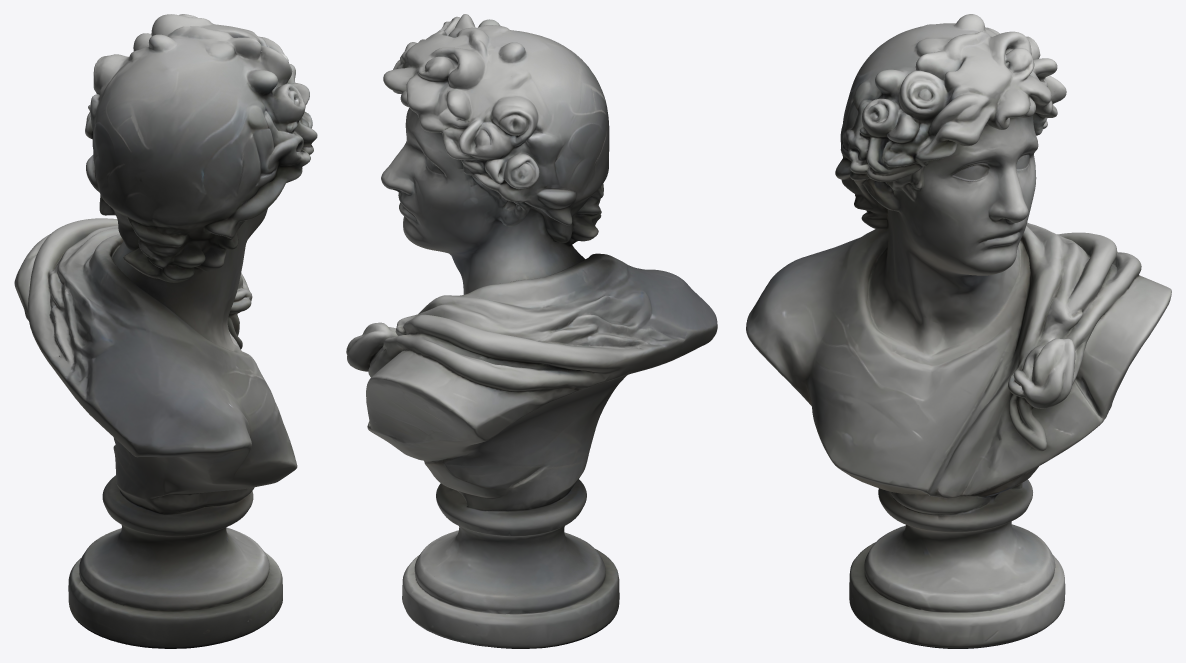
The model's file is prop-statue-bust.glb.
3 views of the same model, side by side, from view 1: azimuth 30°, elevation 25°; view 2: azimuth 150°, elevation 25°; view 3: azimuth 270°, elevation 25° (orthographic). The views are drawn at different scales.
Visible parts, largest first — view 1: tripo_node_2c90fab5-9128-40f5-b555-52f9227db2b2; view 2: tripo_node_2c90fab5-9128-40f5-b555-52f9227db2b2; view 3: tripo_node_2c90fab5-9128-40f5-b555-52f9227db2b2.
Boxes of the visible parts, left/top/right/bottom form: tripo_node_2c90fab5-9128-40f5-b555-52f9227db2b2: left=14, top=14, right=317, bottom=648; tripo_node_2c90fab5-9128-40f5-b555-52f9227db2b2: left=346, top=14, right=717, bottom=648; tripo_node_2c90fab5-9128-40f5-b555-52f9227db2b2: left=746, top=14, right=1171, bottom=648.
Size of the model in its own units: 0.8233 by 1.8 by 1.19.
1 material, 1 textured.
